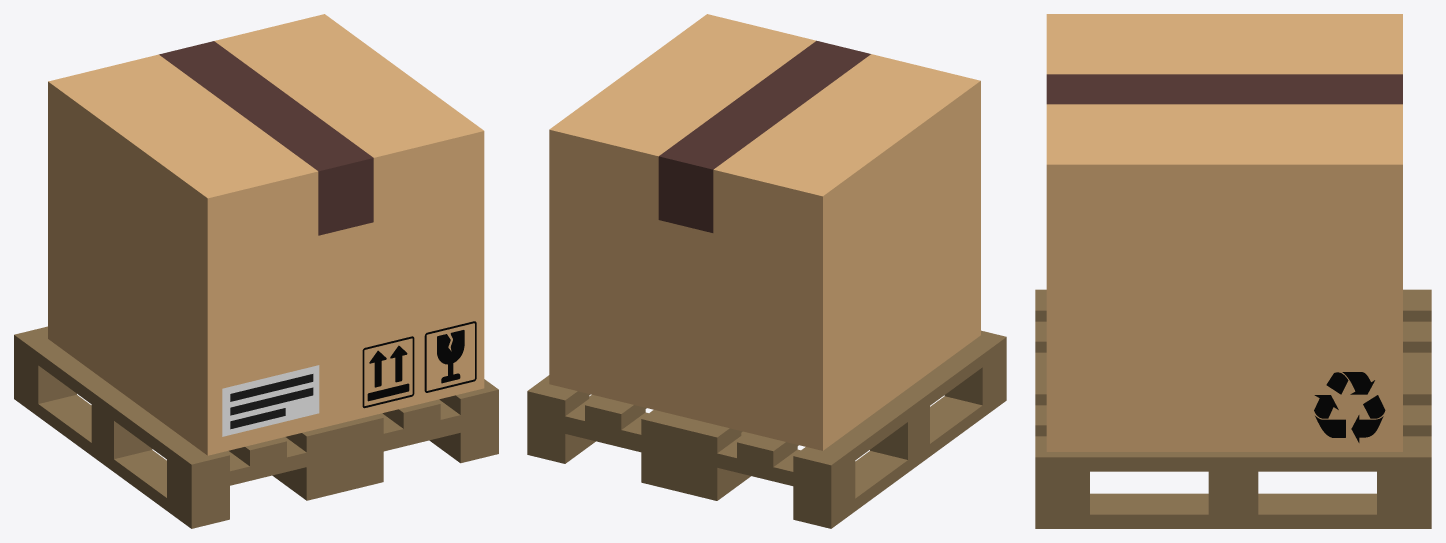
Rendered from package1.fbx.
3 renders of one model, left to right at view 1: azimuth 30°, elevation 25°; view 2: azimuth 150°, elevation 25°; view 3: azimuth 270°, elevation 25°, orthographic. The views are drawn at different scales.
Visible parts, largest first — view 1: Package, Palette, Band, Plane.002, Plane.001, Plane, Plane.003, Plane.004; view 2: Package, Palette, Band; view 3: Package, Palette, Band, Plane.006.
Boxes of the visible parts, <box> form: Package: <box>48,14,484,455</box>; Palette: <box>14,326,498,528</box>; Band: <box>159,41,373,235</box>; Plane.002: <box>222,365,319,436</box>; Plane.001: <box>362,336,414,408</box>; Plane: <box>424,321,476,392</box>; Plane.003: <box>230,374,313,401</box>; Plane.004: <box>230,387,313,415</box>; Package: <box>549,14,980,450</box>; Palette: <box>527,330,1006,528</box>; Band: <box>658,40,870,232</box>; Package: <box>1046,14,1402,451</box>; Palette: <box>1035,289,1431,528</box>; Band: <box>1046,74,1402,104</box>; Plane.006: <box>1314,372,1385,442</box>.
Bounding box in the file's own units: 200 × 200 × 200.
8 materials, 3 textured.
